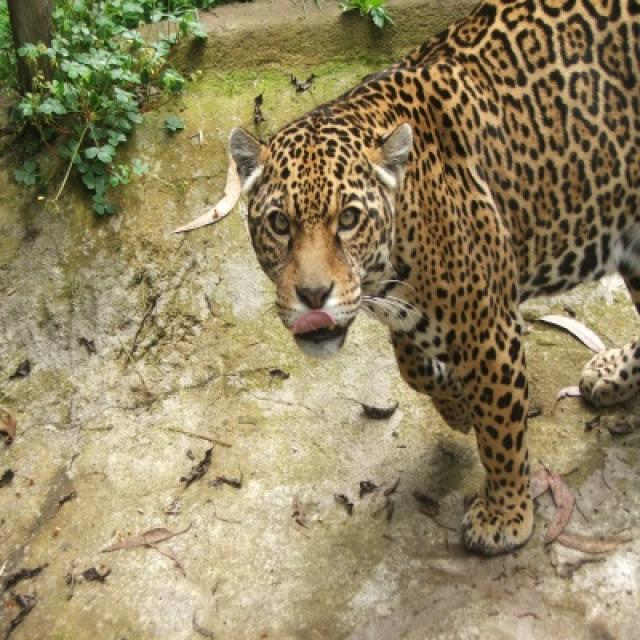Jaguar: (186, 0, 638, 558)
